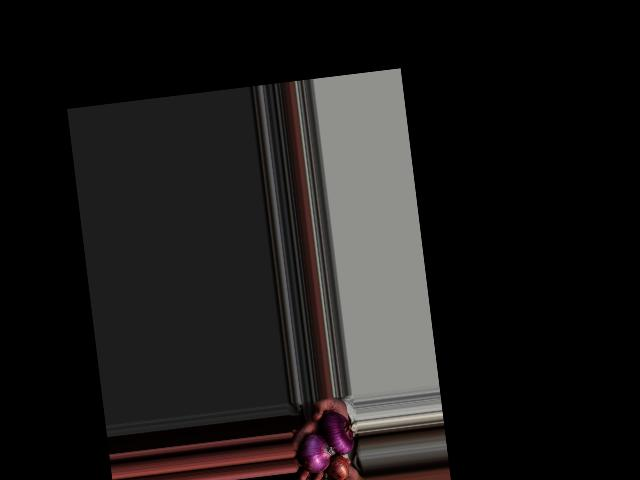onion: (322, 410, 354, 455)
